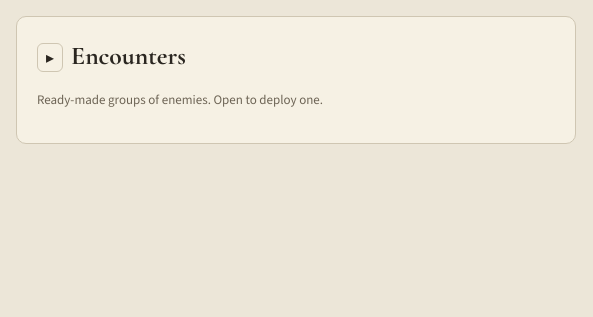
Test: Encounters panel › folded by default; opening loads the list
This screenshot has width=593, height=317.
Later steps or results of the test are not shown.
Expected: the text "Ready-made groups of enemies. Open to deploy one." is shown, [37,91,323,108]
Click the button named "Show or hide the Encounters list" at [50, 58], box [37,43,63,72]
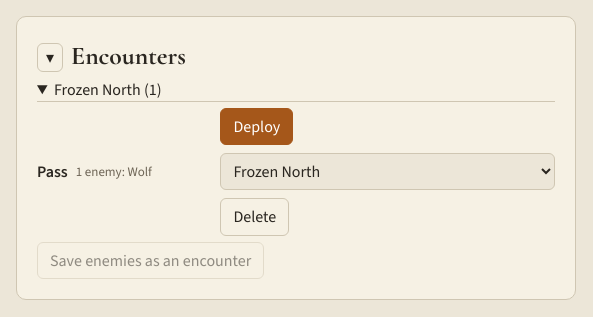
Now the element named "Encounter Pass" shows "1 enemy: Wolf", box [76,163,152,180]
